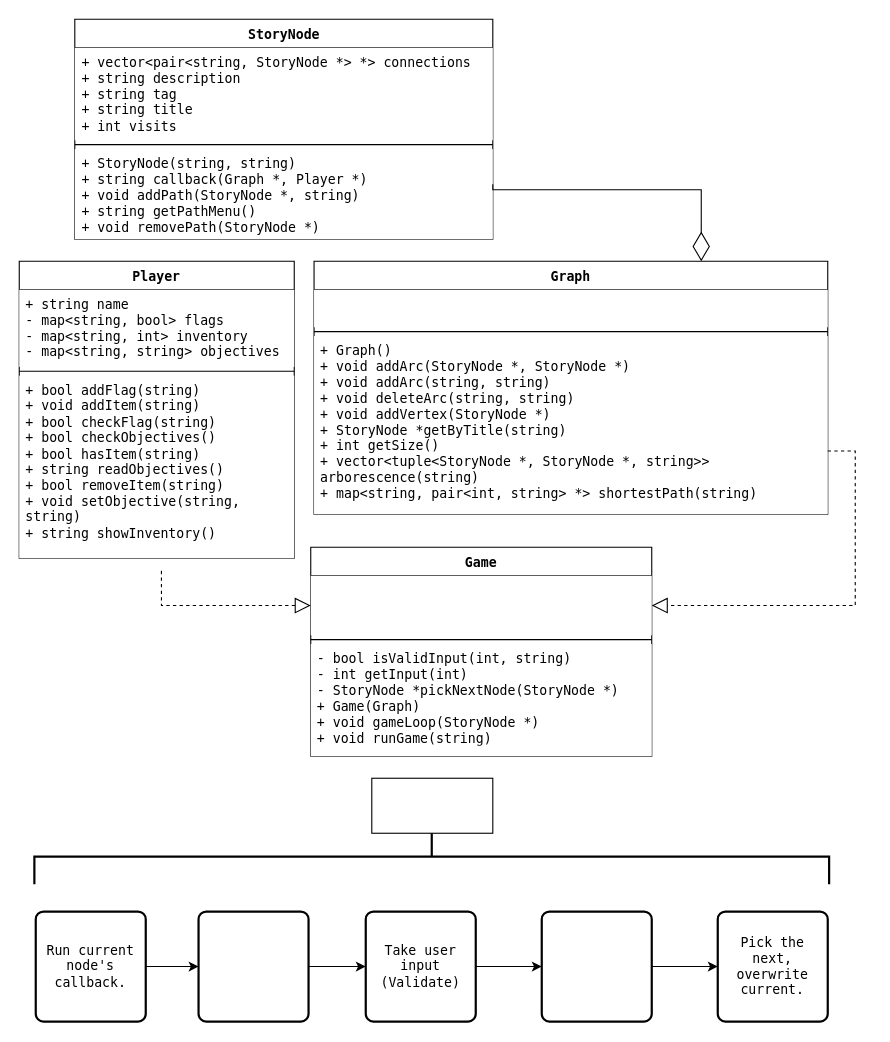
Image size: 890x1042. Some labels were removed from this diagram. The shapes that lost their labels are listed below. From the top down, each one's centre as x and y in pixels, then its label:
At (x=570, y=308): "- int size - map<string, StoryNode *> vertices".
At (x=480, y=605): "- Player player - Graph *graph + string textPartition".
At (x=432, y=805): "gameLoop()".
At (x=253, y=966): "Display current StoryNode: - Narration text - Choices".
At (x=596, y=966): "Add 1 to current node's visit counter.".
